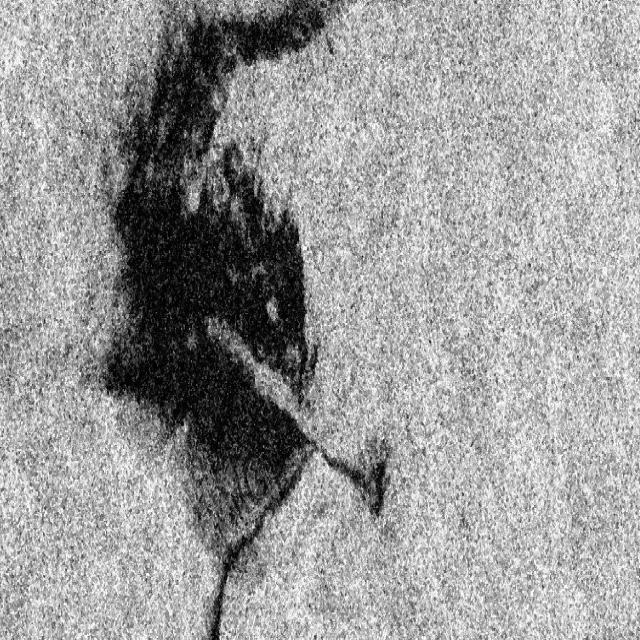oil-spill: (105, 9, 323, 640), (317, 427, 395, 522)
